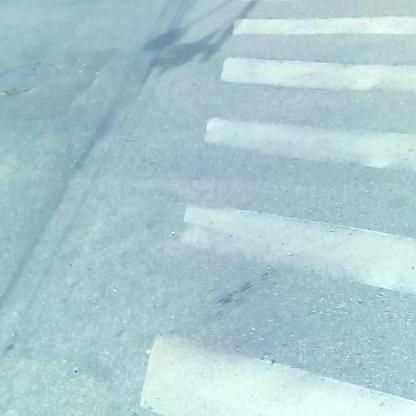crosswalk: (142, 16, 416, 416)
